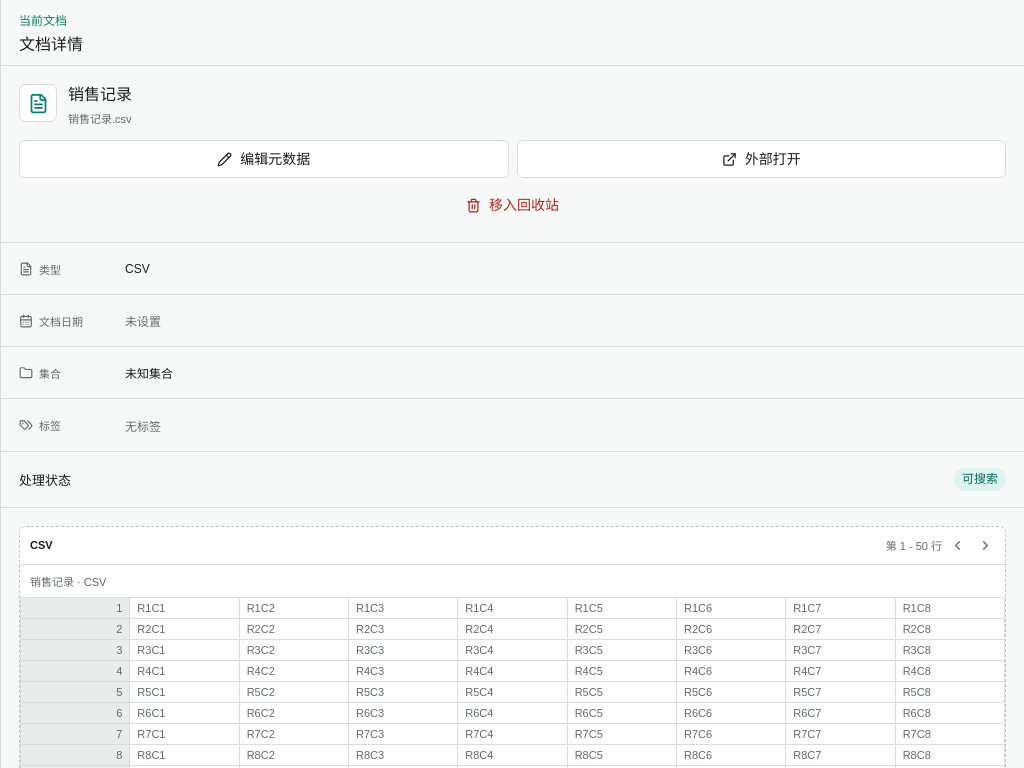
Test: CSV/XLSX 表格预览 › renders inside the document details panel and pages from the opened preview
Click the button named "表格下一页". click: (985, 545)
box: x1=972 y1=532 x2=998 y2=558
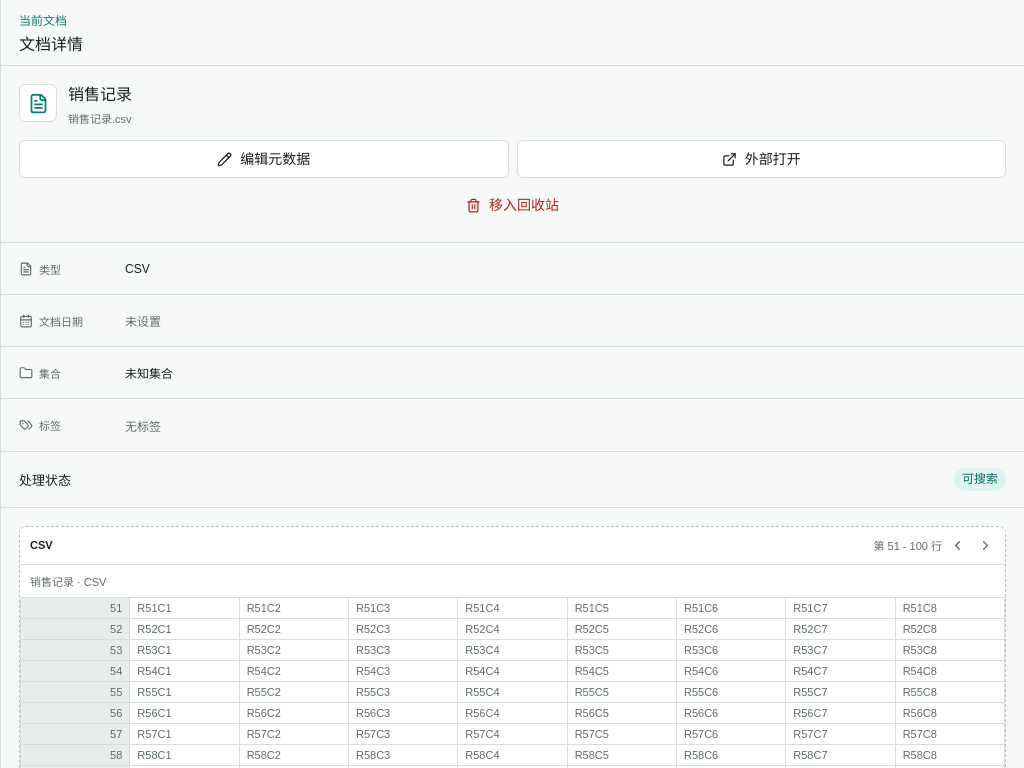
Now the text "第 51 - 100 行" is shown, box x1=874 y1=537 x2=942 y2=553
